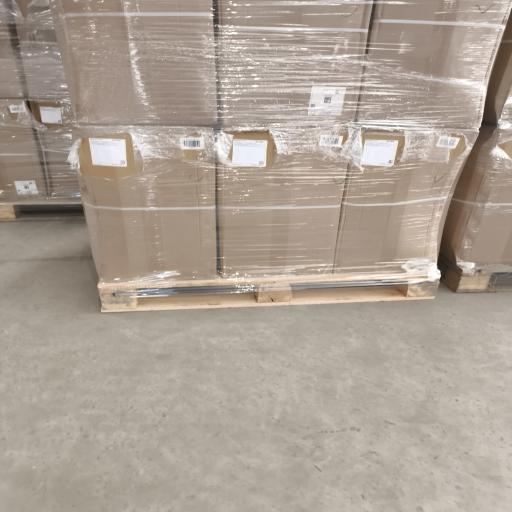pallet: (99, 273, 439, 312), (439, 256, 511, 293), (0, 199, 83, 221)
